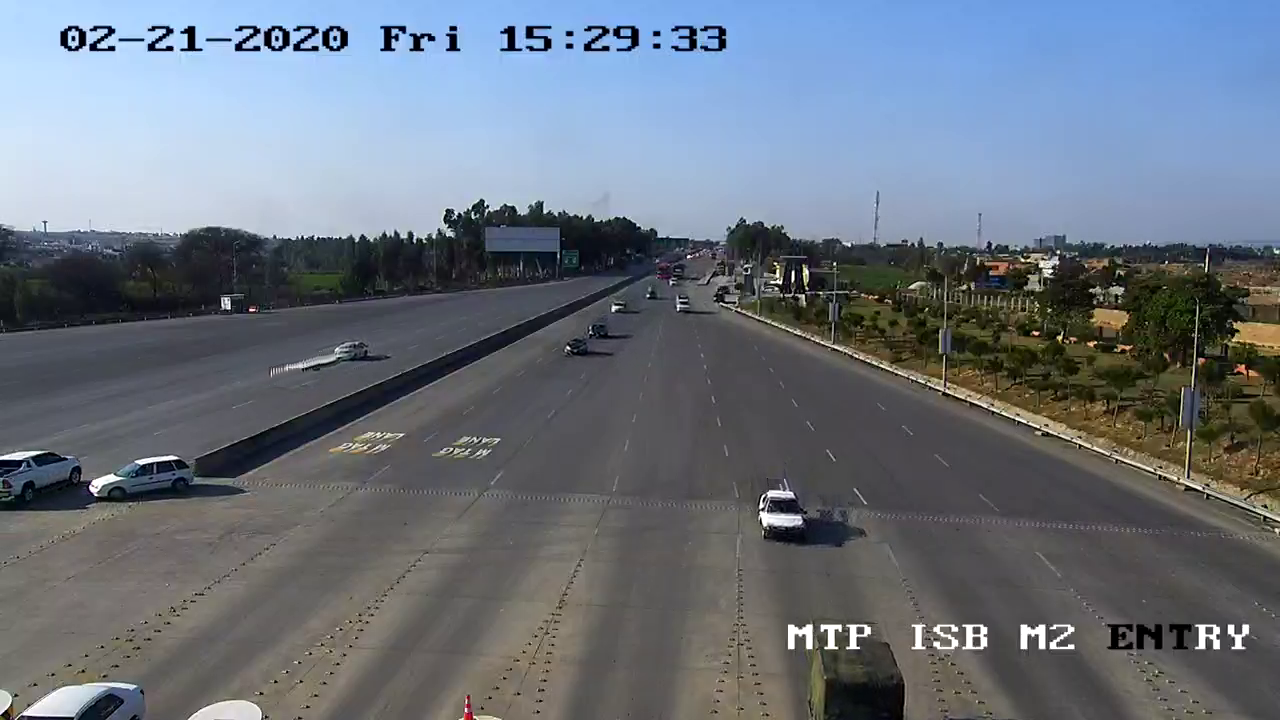f1: (745, 480, 813, 546)
